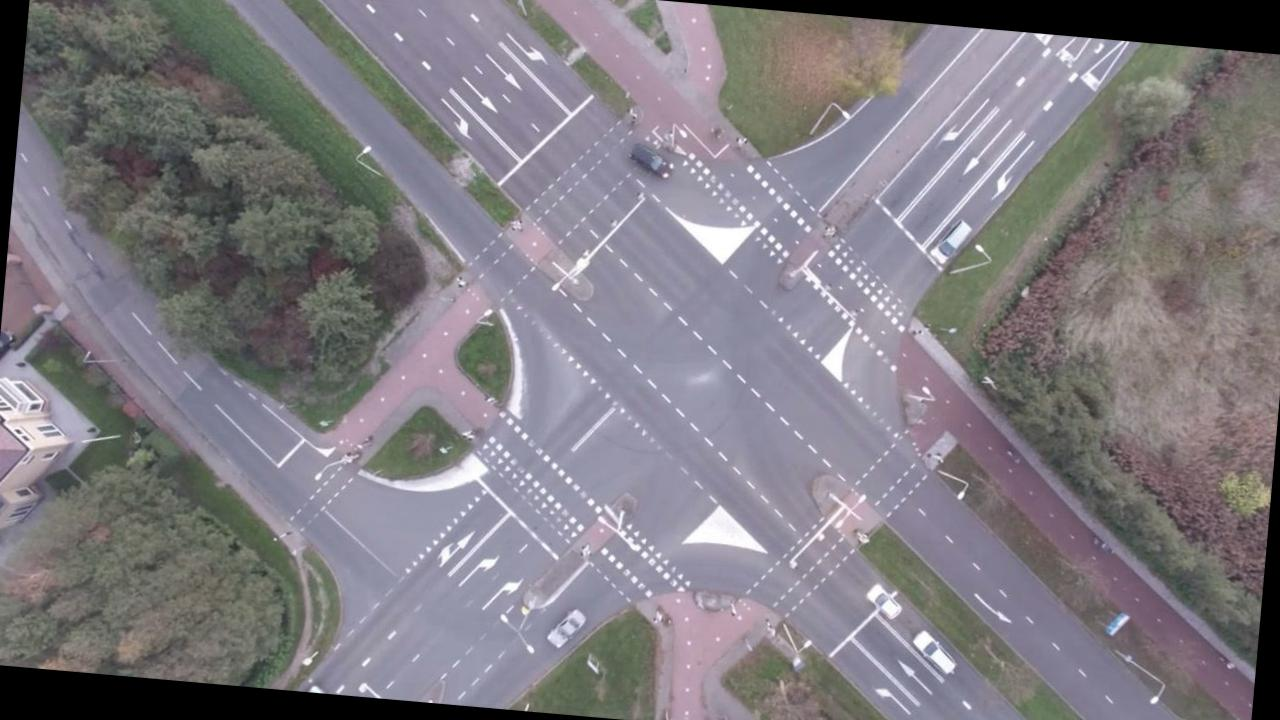vehicle: (926, 215, 976, 270), (908, 628, 961, 676), (624, 140, 677, 180), (544, 605, 588, 651), (864, 580, 906, 622)
